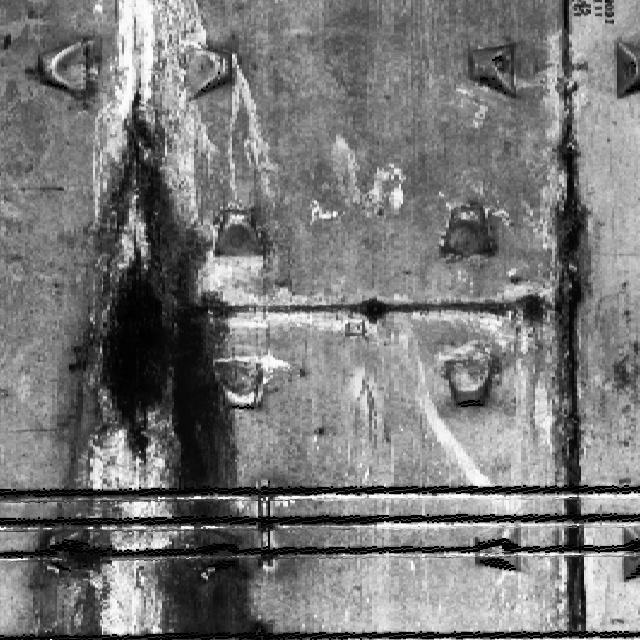leakage: (23, 0, 276, 639), (522, 34, 606, 639)
